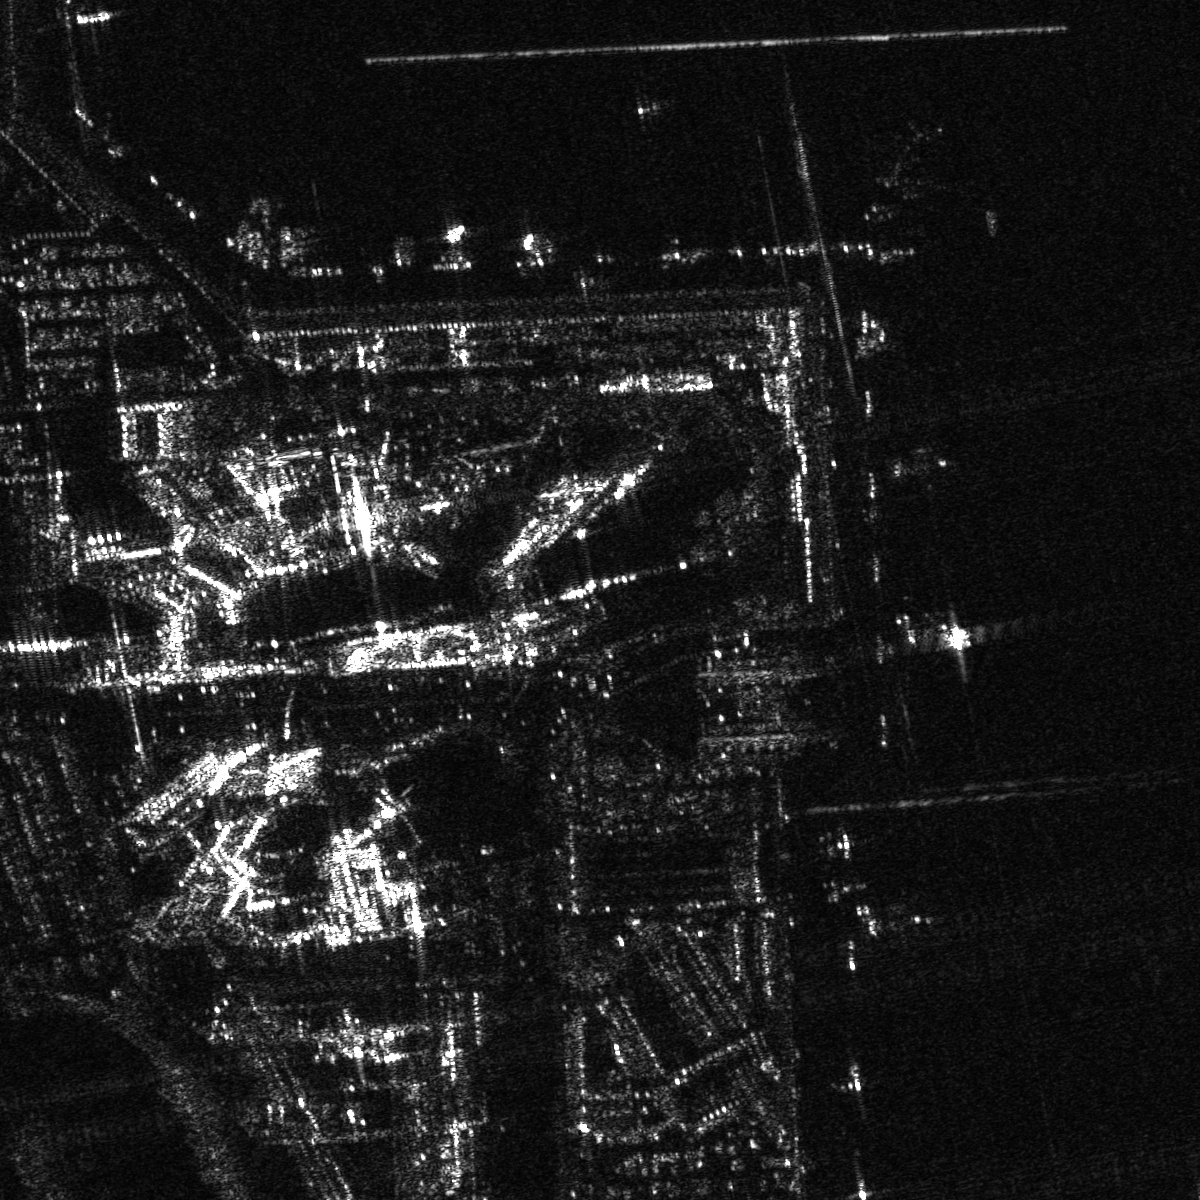A220: (879, 427, 957, 492), (835, 1063, 880, 1118), (811, 830, 871, 864), (836, 1168, 891, 1199), (845, 900, 882, 940)
other: (818, 878, 875, 904)
